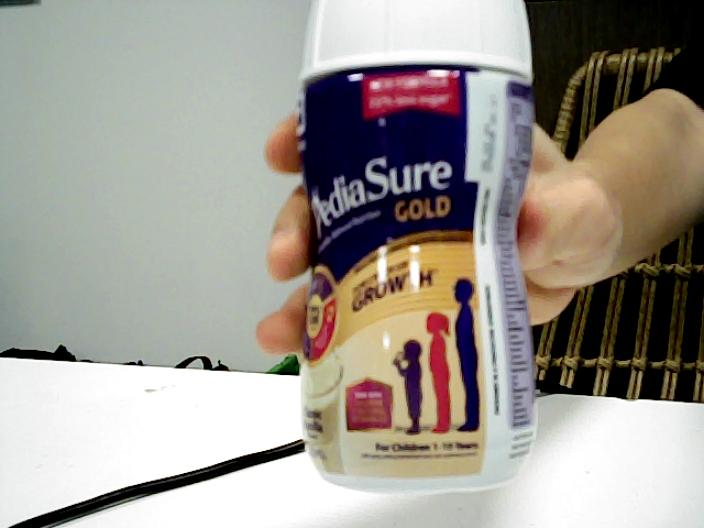Babyfood_200-299g_Halal_NonHealthy: (304, 1, 536, 482)
